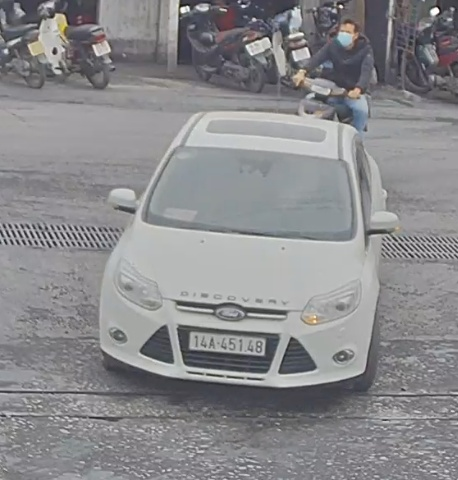vehicle plate: (186, 322, 270, 355)
